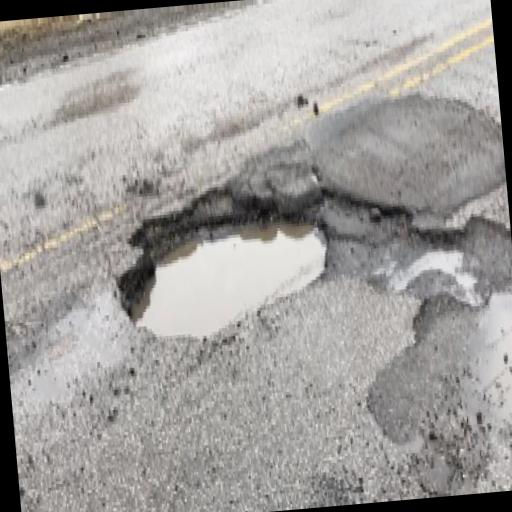pothole: (108, 166, 340, 346), (407, 202, 512, 314)
